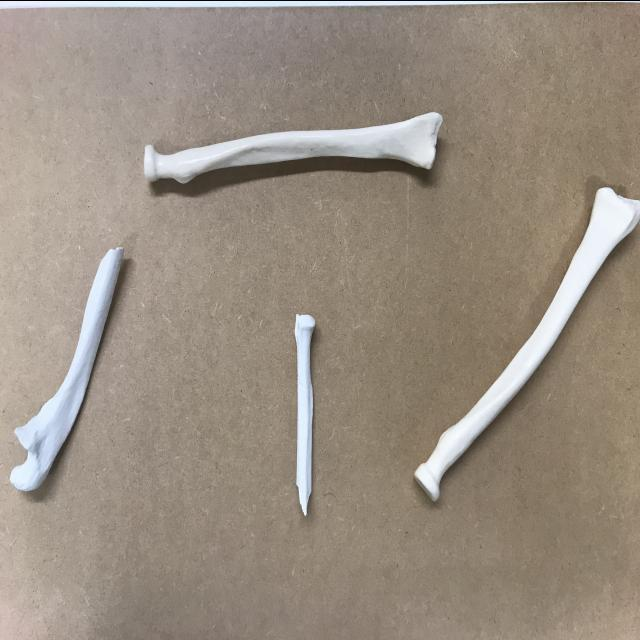bone: (413, 178, 640, 508), (8, 240, 128, 493), (141, 106, 447, 190), (290, 306, 320, 518)
